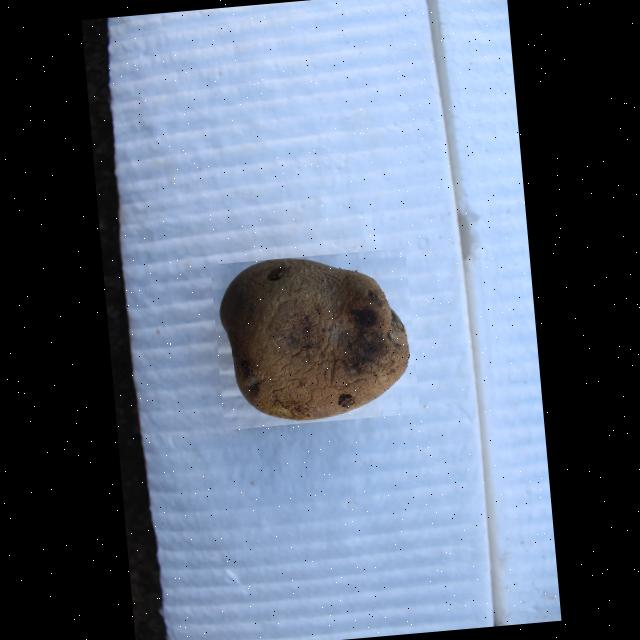Diseased-fungal potato: (208, 248, 418, 430)
